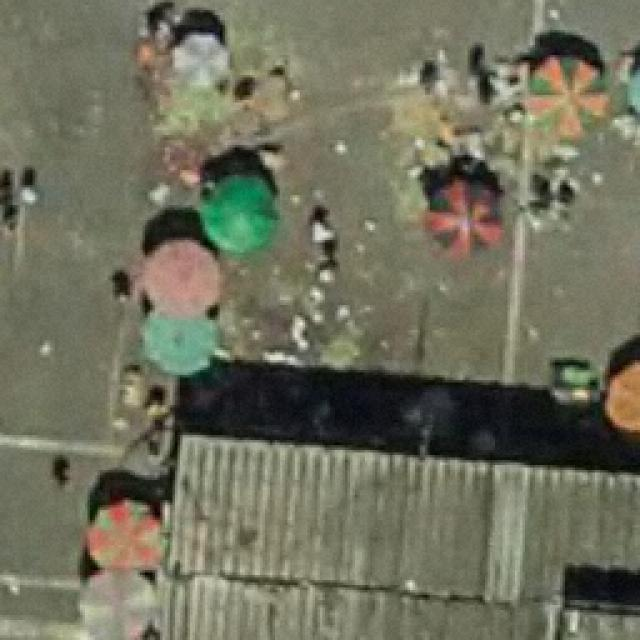vendedor_ambulante: (199, 160, 286, 254), (528, 46, 612, 143), (421, 166, 507, 260), (86, 488, 168, 577), (140, 232, 224, 318), (73, 564, 161, 640), (135, 303, 224, 376), (168, 22, 232, 98), (602, 340, 640, 448)
